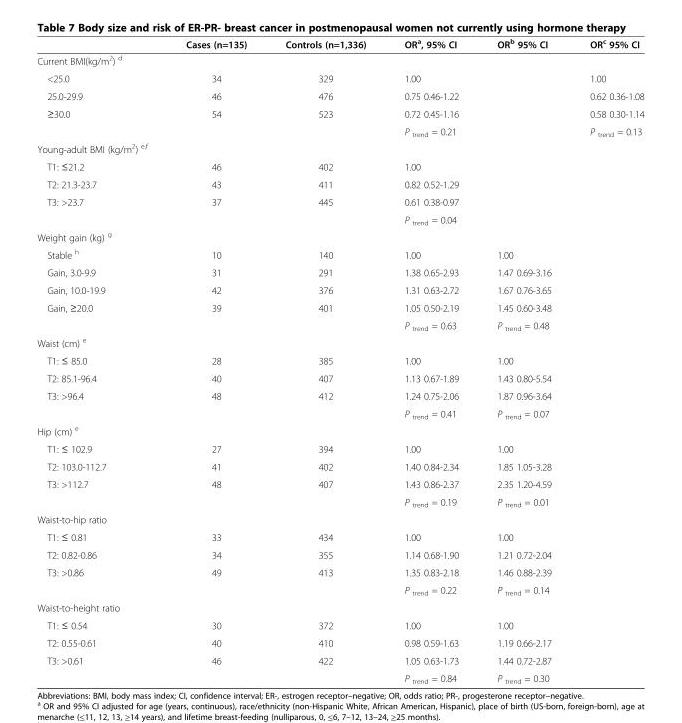table: (36, 36, 643, 684)
table column: (36, 36, 166, 684), (265, 36, 384, 684), (166, 36, 265, 684), (384, 36, 477, 684), (477, 36, 570, 684), (570, 36, 643, 684)
table column header: (36, 36, 643, 51)
table projected row header: (36, 51, 643, 69), (36, 139, 643, 157), (36, 227, 643, 245), (36, 333, 643, 351), (36, 421, 643, 439), (36, 510, 643, 527), (36, 599, 643, 616)
table row: (36, 580, 643, 599), (36, 51, 643, 69), (36, 69, 643, 87), (36, 104, 643, 122), (36, 139, 643, 157), (36, 157, 643, 175), (36, 192, 643, 210), (36, 227, 643, 245), (36, 245, 643, 263), (36, 263, 643, 281), (36, 298, 643, 316), (36, 333, 643, 351), (36, 351, 643, 369), (36, 386, 643, 404), (36, 421, 643, 439), (36, 439, 643, 457), (36, 457, 643, 475), (36, 492, 643, 510), (36, 527, 643, 545), (36, 545, 643, 563), (36, 633, 643, 651), (36, 651, 643, 669), (36, 87, 643, 104), (36, 122, 643, 139), (36, 175, 643, 192), (36, 210, 643, 227), (36, 281, 643, 298), (36, 316, 643, 333), (36, 369, 643, 386), (36, 404, 643, 421), (36, 475, 643, 492), (36, 510, 643, 527), (36, 563, 643, 580), (36, 599, 643, 616), (36, 616, 643, 633), (36, 36, 643, 51), (36, 669, 643, 684)
table spanning cell: (36, 563, 166, 599), (36, 104, 166, 139), (36, 192, 166, 227), (36, 298, 166, 333), (36, 386, 166, 421), (36, 475, 166, 510), (36, 651, 166, 684), (265, 563, 384, 599), (265, 104, 384, 139), (265, 192, 384, 227), (265, 298, 384, 333), (265, 386, 384, 421), (265, 475, 384, 510), (265, 651, 384, 684), (166, 563, 265, 599), (166, 104, 265, 139), (166, 192, 265, 227), (166, 298, 265, 333), (166, 386, 265, 421), (166, 475, 265, 510), (166, 651, 265, 684)
